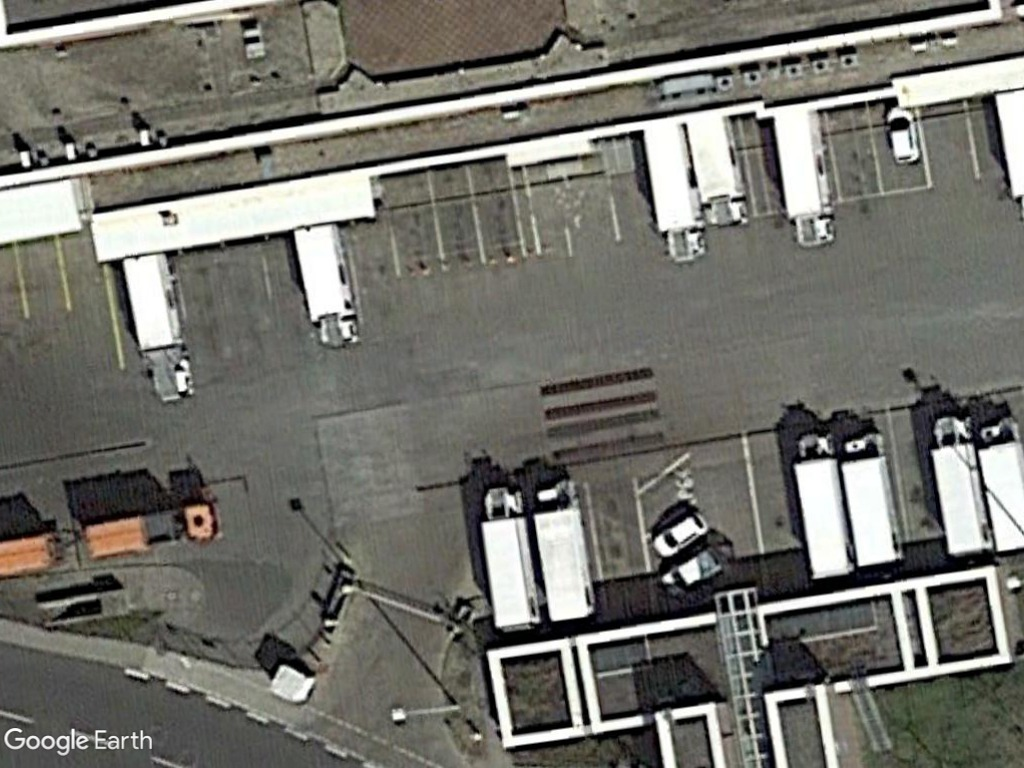car: (646, 499, 714, 563), (880, 101, 925, 169)
truck: (117, 255, 201, 406), (923, 411, 995, 561), (639, 121, 711, 267), (769, 111, 842, 253), (476, 484, 544, 636), (289, 225, 370, 350), (791, 430, 856, 584), (530, 481, 600, 624), (836, 430, 906, 569), (687, 116, 752, 230)
